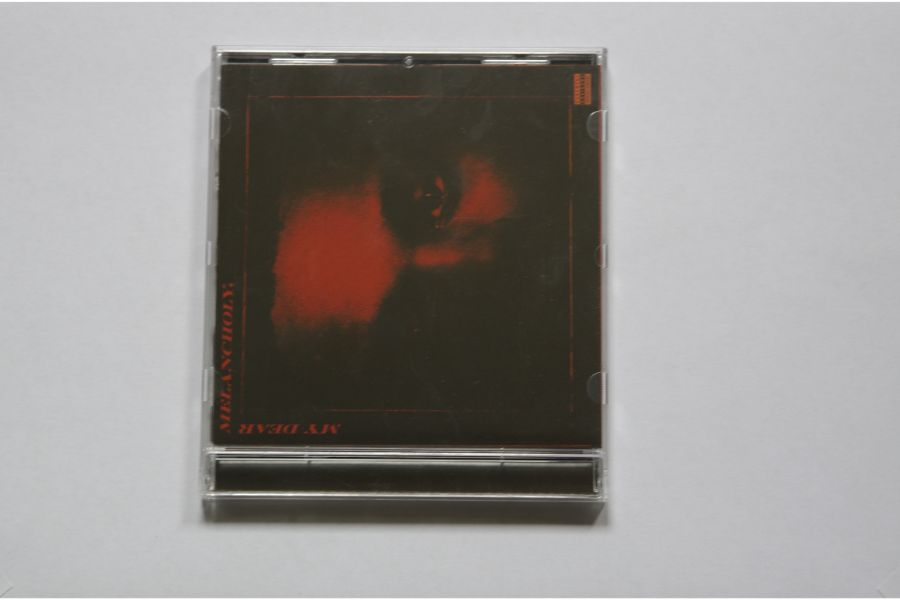album: (200, 41, 610, 502)
